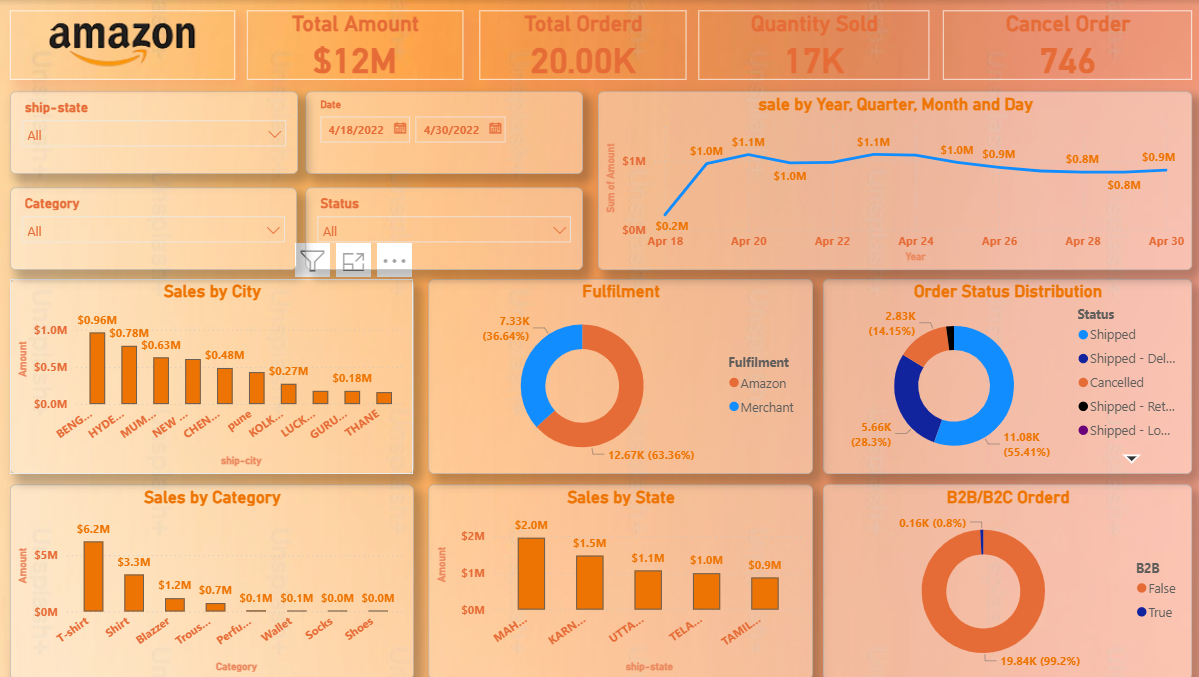

What the dashboard file says about the page in this screenshot:
{"tool":"powerbi","page":{"name":"Page 1","canvas":[1280,720],"ordinal":0},"visuals":[{"type":"card","title":"Total Amount","fields":{"Values":["Sum(Amazon Sale Report.Amount)"]},"box":[267.2,11.1,229,73.2],"z":0},{"type":"card","title":"Total Orderd","fields":{"Values":["CountNonNull(Amazon Sale Report.Order ID)"]},"box":[513.8,11.1,219.5,73.2],"z":1000},{"type":"card","title":"Cancel Order","fields":{"Values":["Amazon Sale Report.Quantity Sold"]},"box":[1005.3,11.1,264,73.2],"z":2000},{"type":"card","title":"Quantity Sold","fields":{"Values":["Amazon Sale Report.quantity_sold"]},"box":[746,11.1,245,73.2],"z":3000},{"type":"columnChart","title":"Sales by Category","fields":{"Category":["Amazon Sale Report.Category"],"Y":["Sum(Amazon Sale Report.Amount)"]},"box":[15.9,513.8,427.9,206.8],"z":4000},{"type":"columnChart","title":"Sales by State","fields":{"Y":["Sum(Amazon Sale Report.Amount)"],"Category":["Amazon Sale Report.ship-state"]},"box":[459.7,513.8,407.2,206.8],"z":5000},{"type":"columnChart","title":"Sales by City","fields":{"Y":["Sum(Amazon Sale Report.Amount)"],"Category":["Amazon Sale Report.ship-city"]},"box":[15.9,295.9,427.9,206.8],"z":6000},{"type":"donutChart","title":"Order Status Distribution","fields":{"Y":["CountNonNull(Amazon Sale Report.Order ID)"],"Category":["Amazon Sale Report.Status"]},"box":[878,295.9,391.3,206.8],"z":7000},{"type":"donutChart","title":" B2B/B2C Orderd","fields":{"Y":["CountNonNull(Amazon Sale Report.Order ID)"],"Category":["Amazon Sale Report.B2B"]},"box":[878,513.8,391.3,206.8],"z":8000},{"type":"donutChart","title":"Fulfilment ","fields":{"Y":["CountNonNull(Amazon Sale Report.Order ID)"],"Category":["Amazon Sale Report.Fulfilment"]},"box":[459.7,295.9,407.2,206.8],"z":9000},{"type":"slicer","fields":{"Values":["Amazon Sale Report.Date"]},"box":[329.3,97,294.3,87.5],"z":10000},{"type":"slicer","fields":{"Values":["Amazon Sale Report.Status"]},"box":[329.3,198.8,294.3,87.5],"z":11000},{"type":"slicer","fields":{"Values":["Amazon Sale Report.Category"]},"box":[15.9,198.8,303.8,87.5],"z":12000},{"type":"slicer","fields":{"Values":["Amazon Sale Report.ship-state"]},"box":[15.9,97,305.4,87.5],"z":13000},{"type":"image","box":[15.9,11.1,238.6,73.2],"z":14000},{"type":"lineChart","title":"sale by Year, Quarter, Month and Day","fields":{"Y":["Sum(Amazon Sale Report.Amount)"],"Category":["Amazon Sale Report.Date.Variation.Date Hierarchy.Year","Amazon Sale Report.Date.Variation.Date Hierarchy.Quarter","Amazon Sale Report.Date.Variation.Date Hierarchy.Month","Amazon Sale Report.Date.Variation.Date Hierarchy.Day"]},"box":[639.4,97,629.9,189.3],"z":15000}]}

Visuals, with their boxes in screenshot pixels (x1, y1, x2, y2), scaled from the page's 1280x720 canvas onto the 1199x677 screenshot:
"Total Amount" card: pyautogui.locateOnScreen(250, 10, 465, 79)
"Total Orderd" card: pyautogui.locateOnScreen(481, 10, 687, 79)
"Cancel Order" card: pyautogui.locateOnScreen(942, 10, 1189, 79)
"Quantity Sold" card: pyautogui.locateOnScreen(699, 10, 928, 79)
"Sales by Category" columnChart: pyautogui.locateOnScreen(15, 483, 416, 676)
"Sales by State" columnChart: pyautogui.locateOnScreen(431, 483, 812, 676)
"Sales by City" columnChart: pyautogui.locateOnScreen(15, 278, 416, 473)
"Order Status Distribution" donutChart: pyautogui.locateOnScreen(822, 278, 1189, 473)
" B2B/B2C Orderd" donutChart: pyautogui.locateOnScreen(822, 483, 1189, 676)
"Fulfilment " donutChart: pyautogui.locateOnScreen(431, 278, 812, 473)
slicer - Amazon Sale Report.Date: pyautogui.locateOnScreen(308, 91, 584, 173)
slicer - Amazon Sale Report.Status: pyautogui.locateOnScreen(308, 187, 584, 269)
slicer - Amazon Sale Report.Category: pyautogui.locateOnScreen(15, 187, 299, 269)
slicer - Amazon Sale Report.ship-state: pyautogui.locateOnScreen(15, 91, 301, 173)
image: pyautogui.locateOnScreen(15, 10, 238, 79)
"sale by Year, Quarter, Month and Day" lineChart: pyautogui.locateOnScreen(599, 91, 1189, 269)
